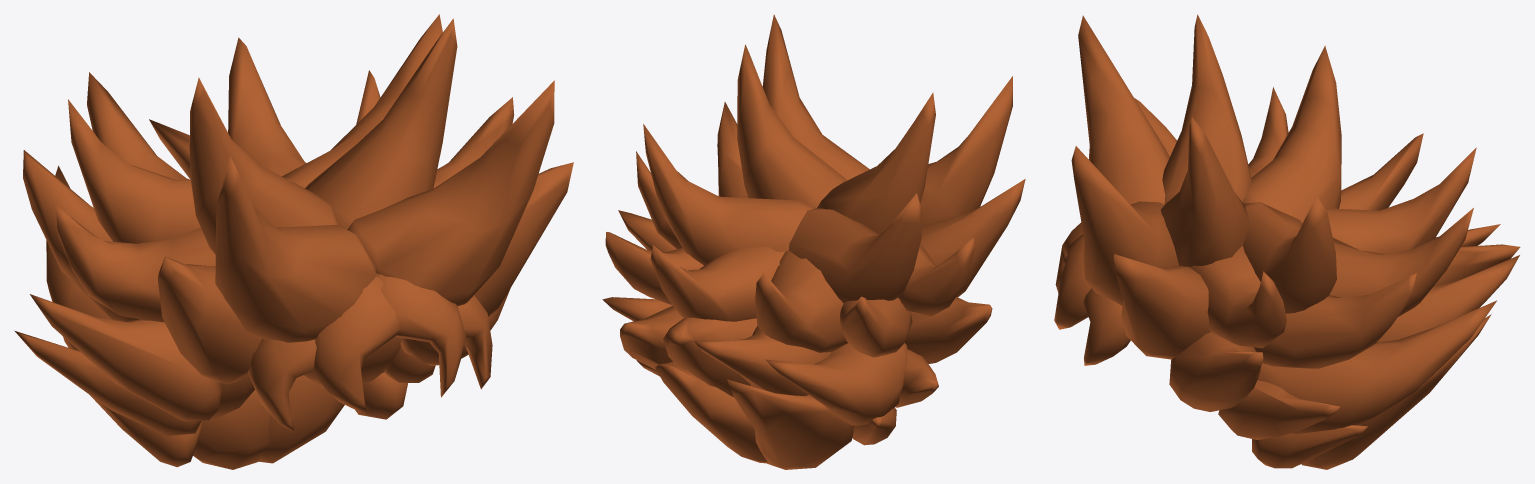
3 renders of one model, left to right at view 1: azimuth 30°, elevation 25°; view 2: azimuth 150°, elevation 25°; view 3: azimuth 270°, elevation 25°, orthographic. The views are drawn at different scales.
Parts seen in each view (by area): view 1: Wolf3D_Hair.062; view 2: Wolf3D_Hair.062; view 3: Wolf3D_Hair.062.
Part boxes in pixels (x1=…): Wolf3D_Hair.062: x1=14, y1=14, x2=573, y2=469; Wolf3D_Hair.062: x1=602, y1=14, x2=1025, y2=469; Wolf3D_Hair.062: x1=1054, y1=14, x2=1520, y2=469.
Size of the model in its own units: 0.3038 by 0.2729 by 0.2929.
Materials: 1 (1 with a texture image).
